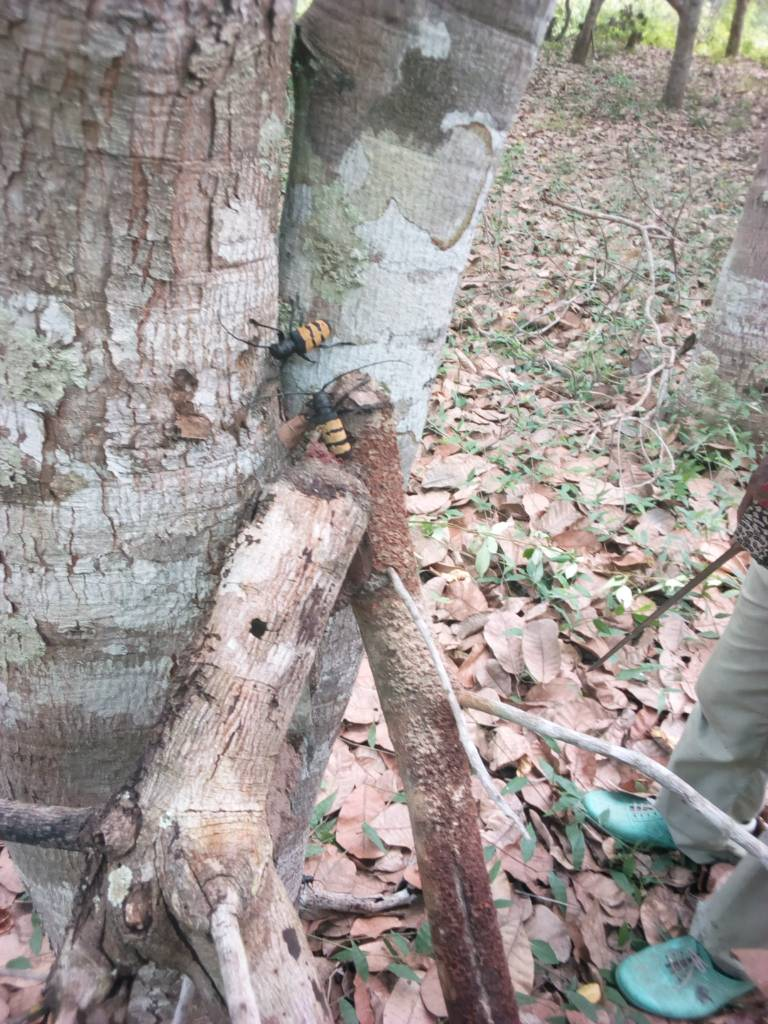Analepse trifasciata: (257, 444, 397, 547)
